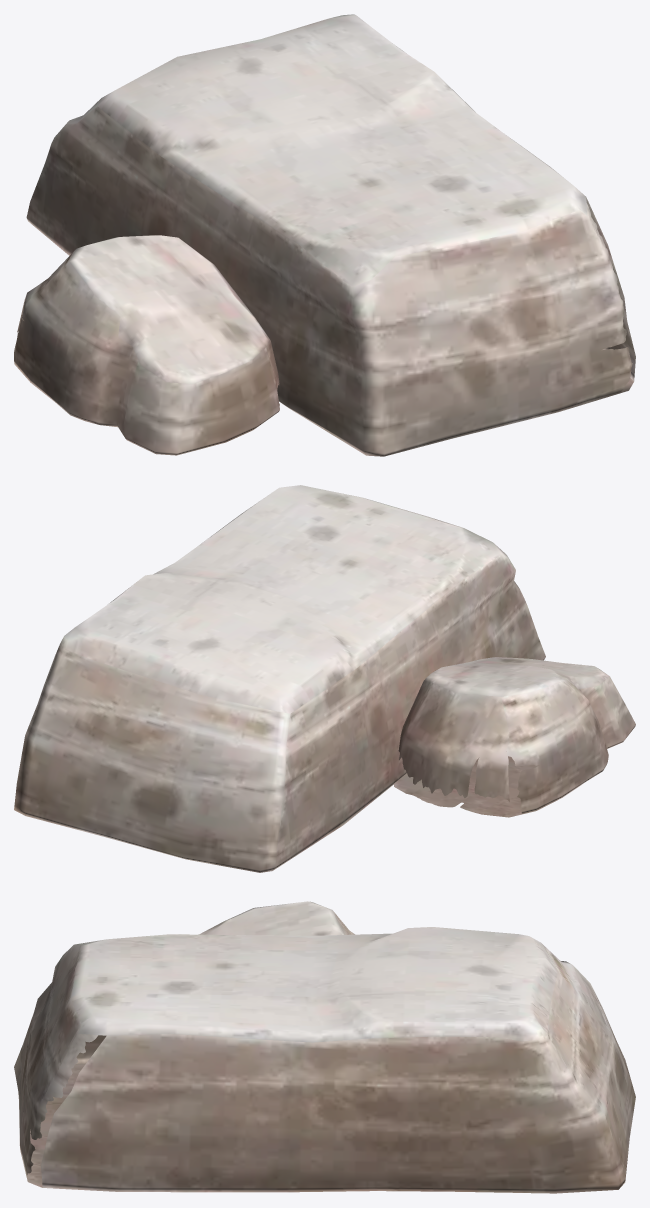
3 views of the same model, one above another, from view 1: azimuth 30°, elevation 25°; view 2: azimuth 150°, elevation 25°; view 3: azimuth 270°, elevation 25° (orthographic). The views are drawn at different scales.
Parts seen in each view (by area): view 1: SM_GypsumRock_01_LOD0; view 2: SM_GypsumRock_01_LOD0; view 3: SM_GypsumRock_01_LOD0.
Boxes of the visible parts, bbox=[...] form: SM_GypsumRock_01_LOD0: bbox=[14, 14, 635, 456]; SM_GypsumRock_01_LOD0: bbox=[14, 485, 635, 872]; SM_GypsumRock_01_LOD0: bbox=[14, 901, 635, 1193].
Bounding box in the file's own units: 0.3337 × 0.119 × 0.4165.
1 material, 1 textured.
